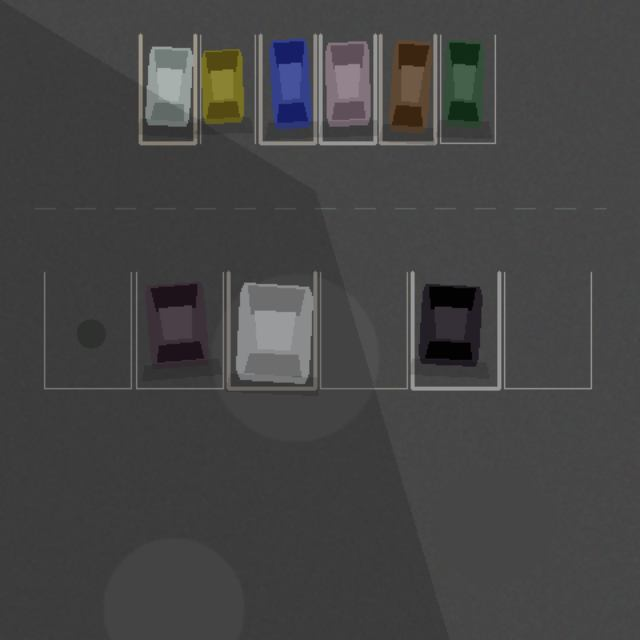space-empty: (44, 272, 131, 388), (320, 272, 407, 388), (504, 272, 591, 388)
space-occupied: (136, 272, 223, 388), (228, 272, 315, 388), (412, 272, 499, 388), (140, 35, 195, 143), (200, 35, 255, 143), (260, 35, 315, 143), (320, 35, 375, 143), (380, 35, 435, 143), (440, 35, 495, 143)
